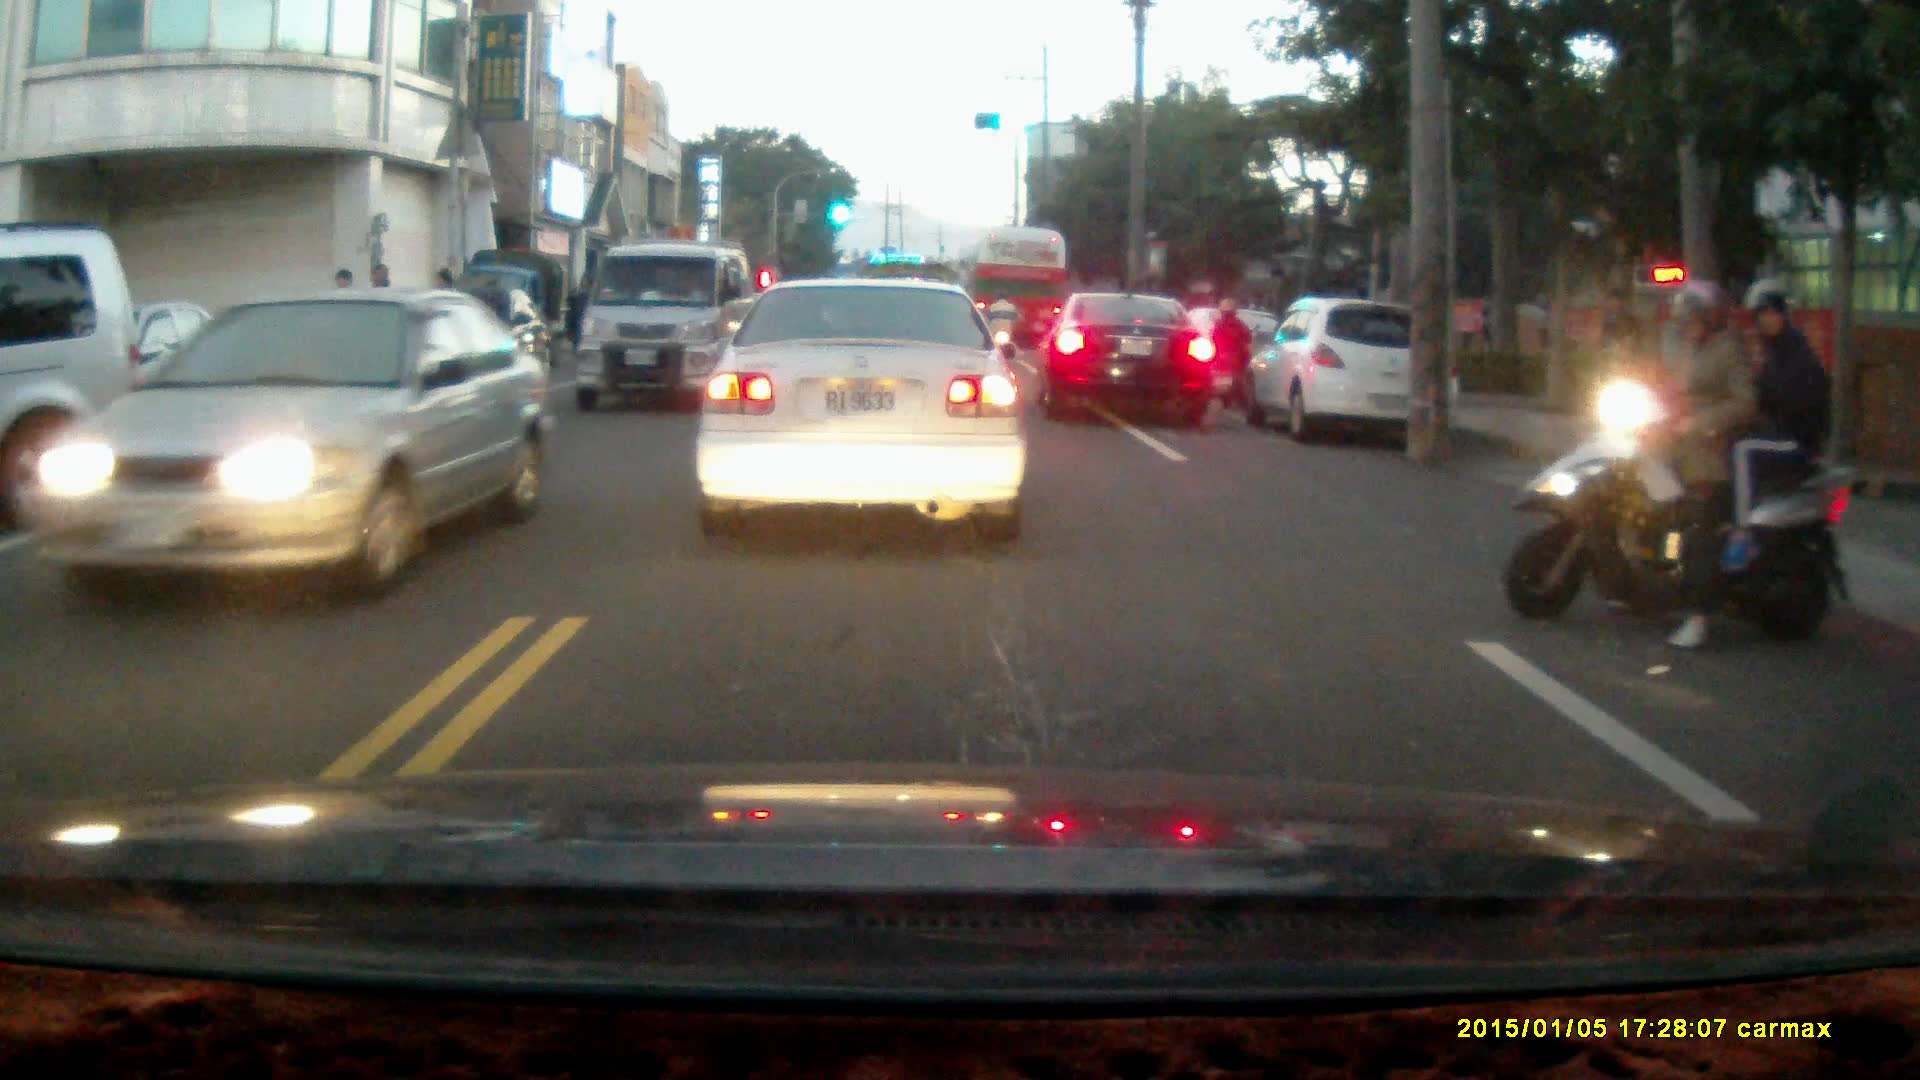pedestrian: (1596, 284, 1648, 411)
rider: (1507, 276, 1848, 658), (1206, 293, 1256, 408), (982, 289, 1021, 367)
vehicle: (33, 290, 539, 603), (691, 274, 1030, 547), (1, 226, 153, 520), (12, 300, 271, 470), (1244, 295, 1462, 442), (574, 241, 759, 413), (1037, 295, 1223, 430), (971, 224, 1072, 363)
